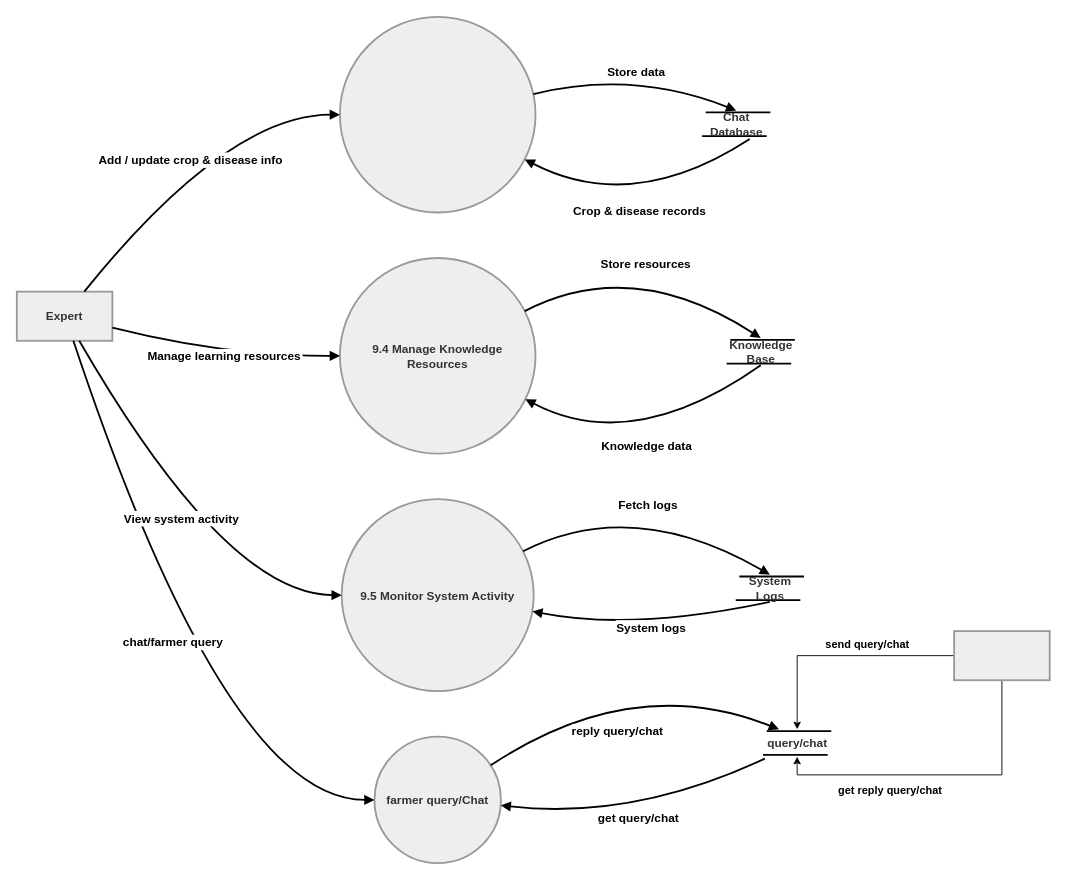
Image size: 1066x879. Some labels were removed from this diagram. The centre of each missing label's shape, as x and y in pixels:
9.3 Manage Crop & Disease Data: the point at 437,114
Farmer: the point at 1001,655
